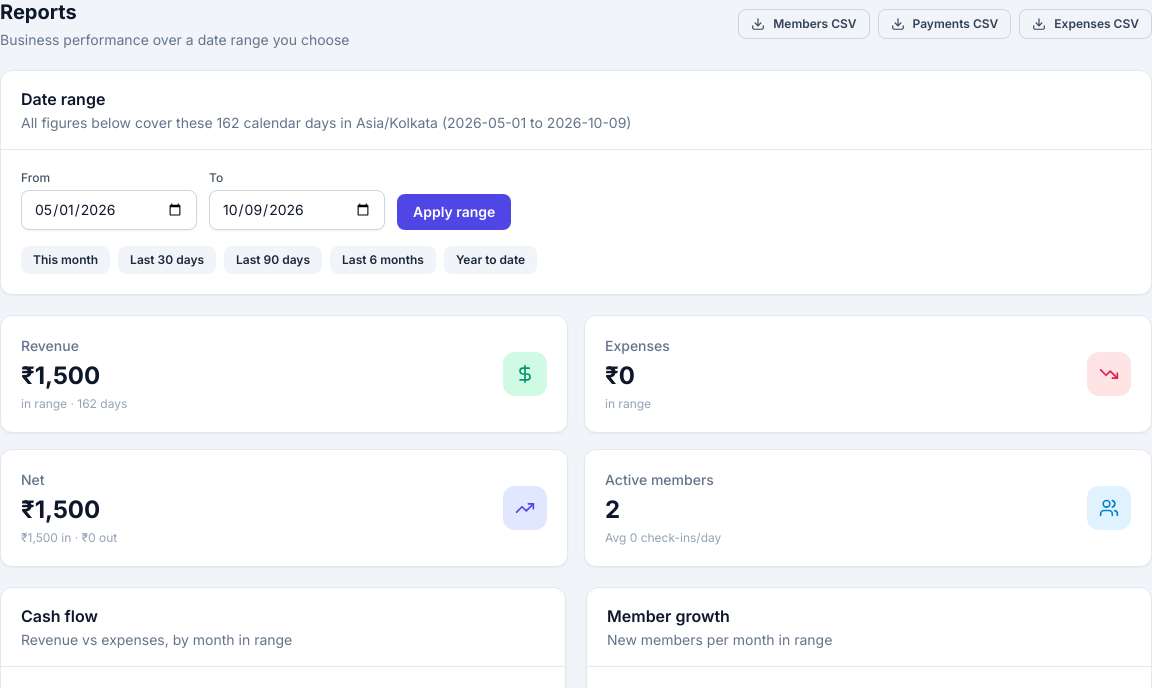
Test: Reports date range › reports an empty state rather than a stale figure for an empty range
expect the heading "Date range" is shown: met, box x1=21 y1=89 x2=105 y2=109
Type "2026-01-01" into the date field labelled "From" at (109, 210), box x1=21 y1=190 x2=197 y2=230
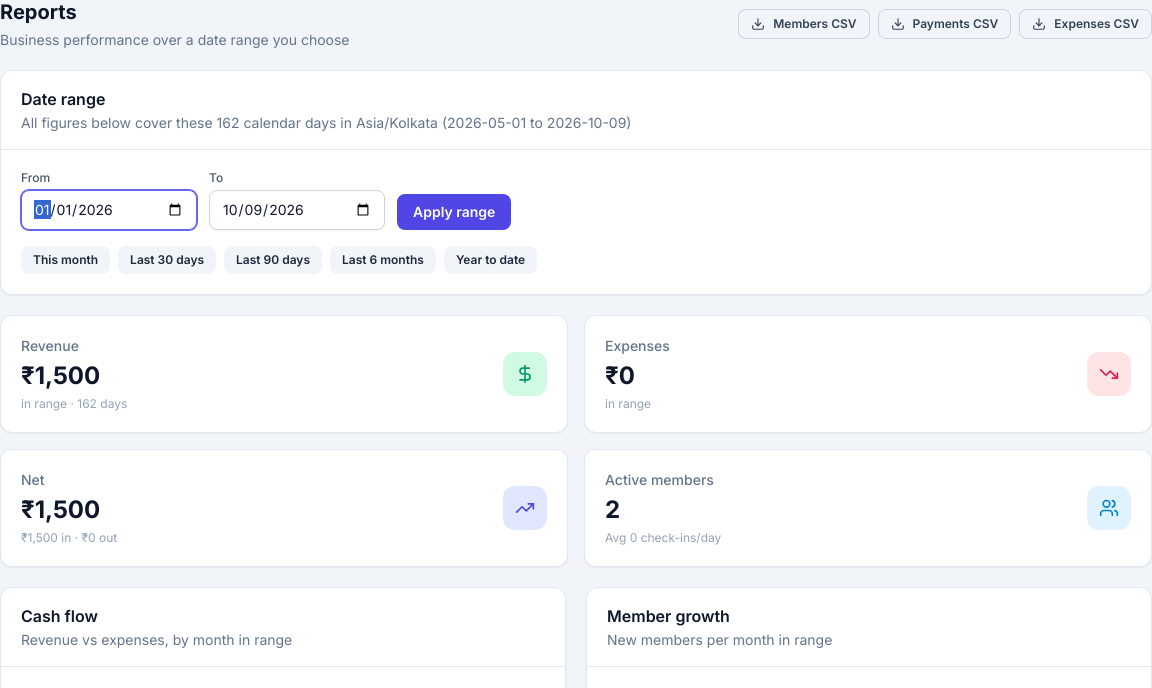
Type "2026-01-02" into the date field labelled "To" at (297, 210), box x1=209 y1=190 x2=385 y2=230
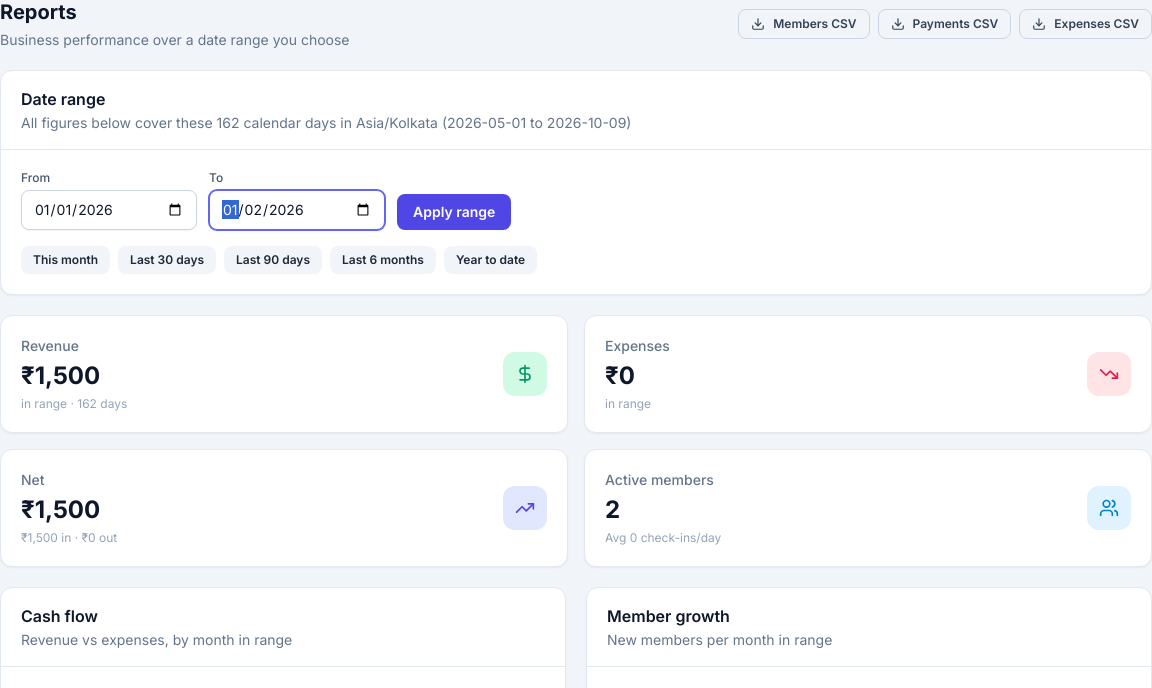
Click the button "Apply range" at (454, 212), box x1=397 y1=194 x2=511 y2=230
(page scrolled)
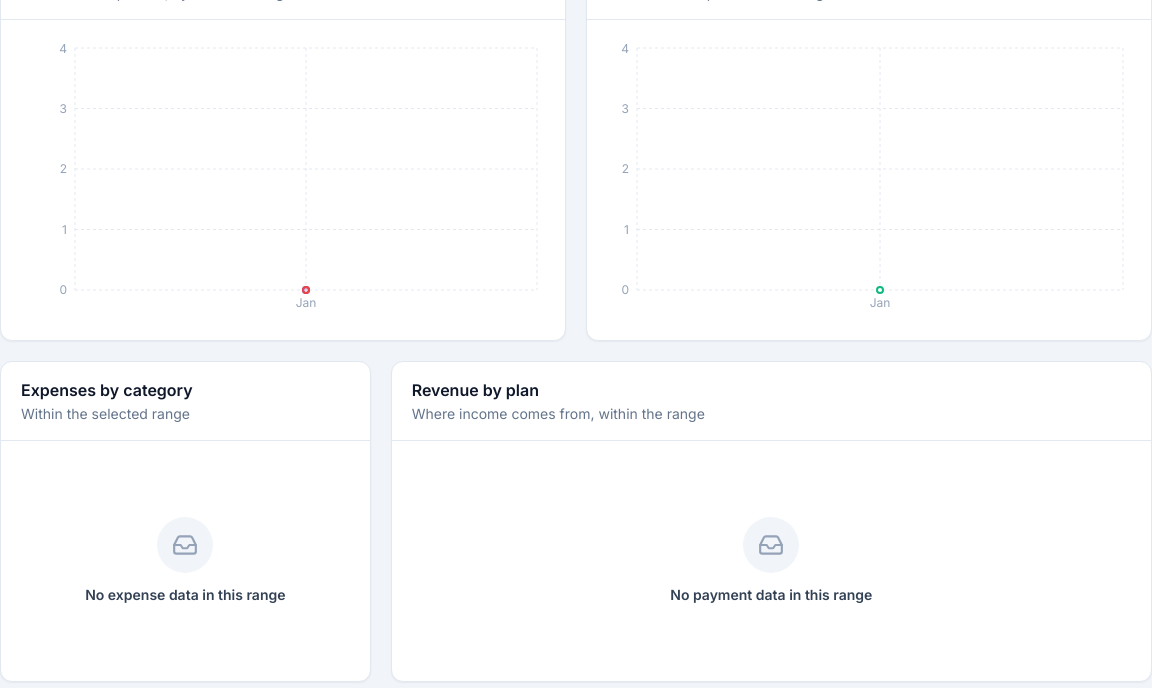
expect the text "No expense data in this range" is shown: met, box x1=85 y1=585 x2=286 y2=605
expect the text "No payment data in this range" is shown: met, box x1=670 y1=585 x2=872 y2=605
